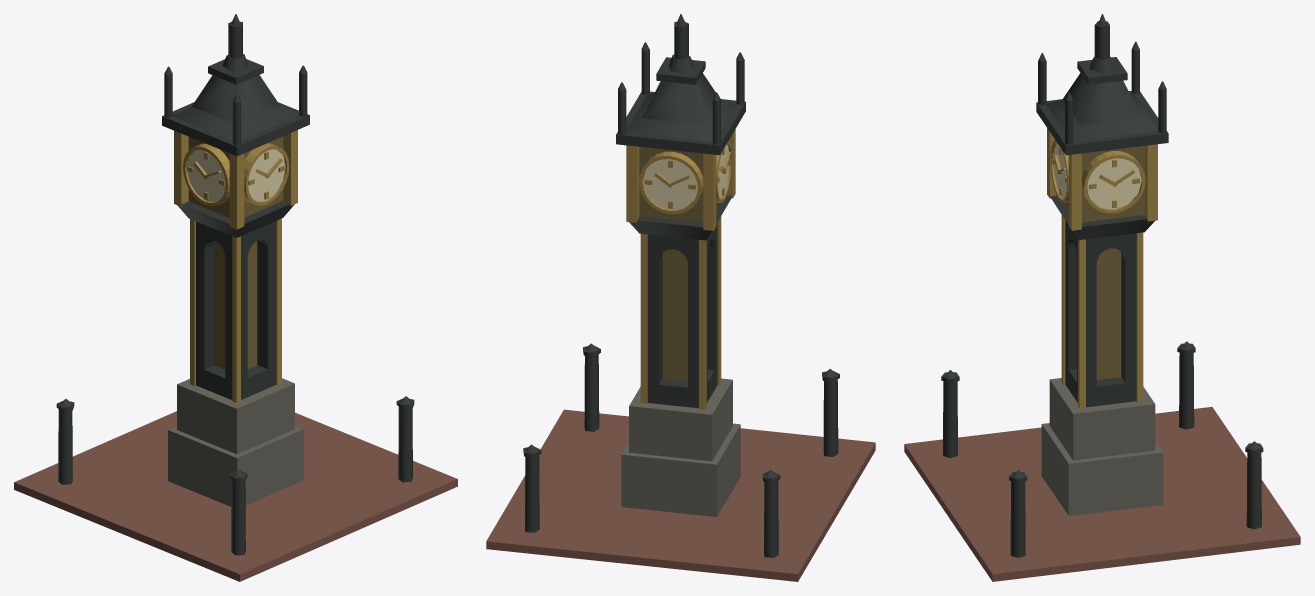
File: gastown-steam-clock-far.glb
3 views of the same model, side by side, from view 1: azimuth 30°, elevation 25°; view 2: azimuth 150°, elevation 25°; view 3: azimuth 270°, elevation 25° (orthographic). The views are drawn at different scales.
Parts seen in each view (by area): view 1: gastown-steam-clock-0-brick, gastown-steam-clock-0-bronze, gastown-steam-clock-0-granite, gastown-steam-clock-0-brass, gastown-steam-clock-0-glass, gastown-steam-clock-0-glow; view 2: gastown-steam-clock-0-brick, gastown-steam-clock-0-bronze, gastown-steam-clock-0-granite, gastown-steam-clock-0-brass, gastown-steam-clock-0-glass, gastown-steam-clock-0-glow; view 3: gastown-steam-clock-0-brick, gastown-steam-clock-0-bronze, gastown-steam-clock-0-granite, gastown-steam-clock-0-brass, gastown-steam-clock-0-glass, gastown-steam-clock-0-glow.
Part boxes in pixels (x1,y1,x2,y2): gastown-steam-clock-0-brick: (14, 411, 457, 581); gastown-steam-clock-0-bronze: (56, 14, 414, 555); gastown-steam-clock-0-granite: (168, 378, 303, 506); gastown-steam-clock-0-brass: (174, 130, 297, 403); gastown-steam-clock-0-glass: (188, 136, 283, 369); gastown-steam-clock-0-glow: (186, 149, 285, 201); gastown-steam-clock-0-brick: (486, 409, 875, 581); gastown-steam-clock-0-bronze: (523, 14, 839, 557); gastown-steam-clock-0-granite: (621, 378, 740, 516); gastown-steam-clock-0-brass: (626, 129, 735, 409); gastown-steam-clock-0-glass: (639, 147, 717, 380); gastown-steam-clock-0-glow: (642, 144, 729, 210); gastown-steam-clock-0-brick: (904, 407, 1300, 581); gastown-steam-clock-0-bronze: (941, 14, 1263, 557); gastown-steam-clock-0-granite: (1041, 378, 1163, 515); gastown-steam-clock-0-brass: (1047, 128, 1157, 408); gastown-steam-clock-0-glass: (1066, 146, 1144, 379); gastown-steam-clock-0-glow: (1053, 143, 1141, 209).
Bounding box in the file's own units: 3.71 × 5 × 3.71.
